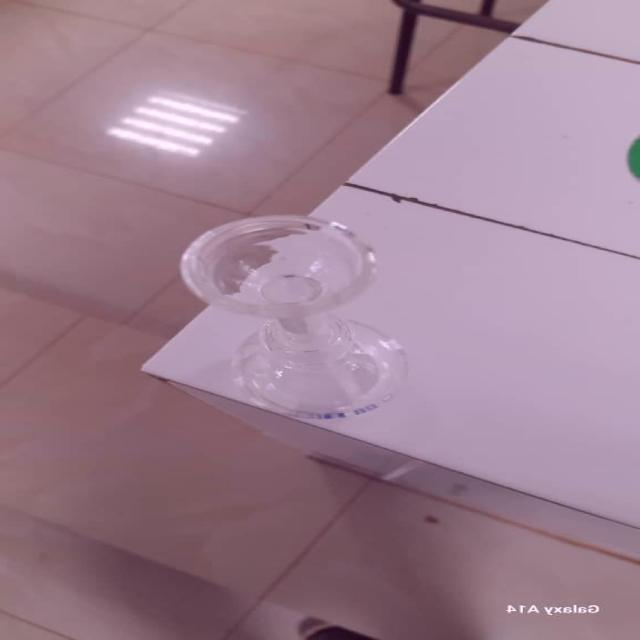Density Bottles for Solids: (163, 204, 419, 427)
